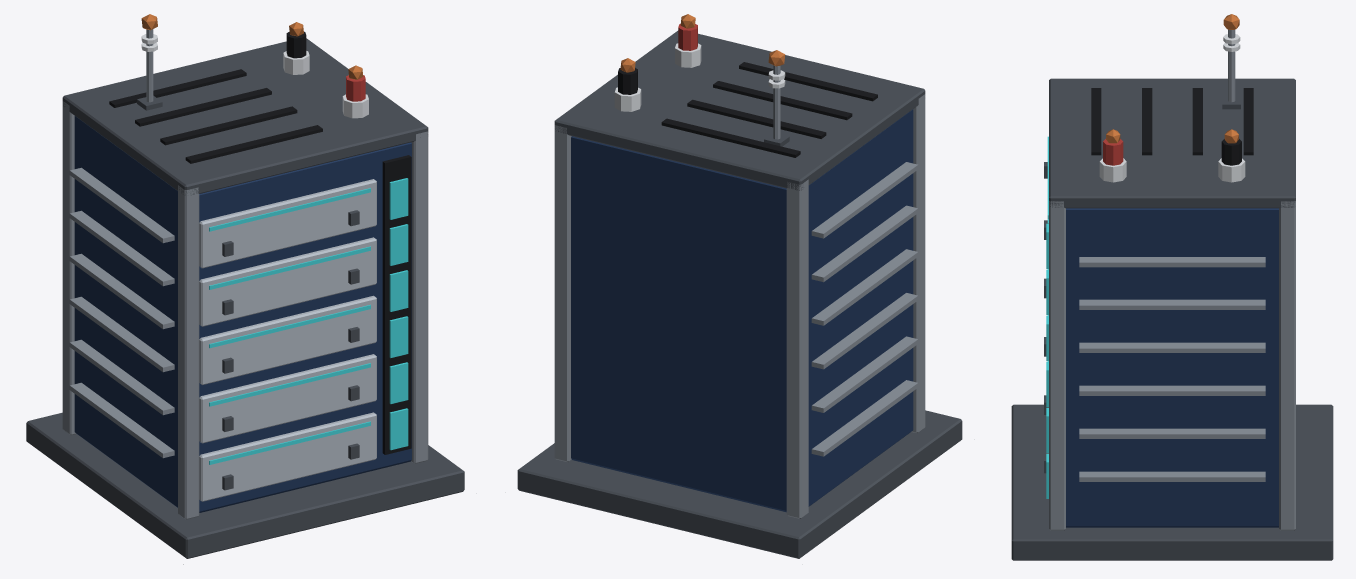
File: accumulateur_t3.glb
The picture shows the model from 3 angles, left to right: view 1: azimuth 30°, elevation 25°; view 2: azimuth 150°, elevation 25°; view 3: azimuth 270°, elevation 25°; orthographic projection.
Visible parts, largest first — view 1: pieces_acier_sombre.016, pieces_panneau.004, pieces_gris_clair.006, pieces_acier.018, pieces_noir.014, pieces_cyan.004, pieces_blanc.018, voyant_charge_0.002, voyant_charge_1.002, voyant_charge_2.002, voyant_charge_4.002, voyant_charge_5.002 (+2 smaller); view 2: pieces_panneau.004, pieces_acier_sombre.016, pieces_acier.018, pieces_noir.014, pieces_blanc.018, pieces_cuivre.018; view 3: pieces_panneau.004, pieces_acier_sombre.016, pieces_acier.018, pieces_noir.014, pieces_blanc.018, pieces_cuivre.018, pieces_rouge.010.
Part boxes in pixels (x1,y1,x2,y2): pieces_acier_sombre.016: (26,38,464,558); pieces_panneau.004: (74,116,411,512); pieces_gris_clair.006: (199,179,376,501); pieces_acier.018: (62,29,428,519); pieces_noir.014: (109,31,411,454); pieces_cyan.004: (209,188,370,464); pieces_blanc.018: (141,34,368,118); voyant_charge_0.002: (389,408,408,450); voyant_charge_1.002: (389,362,408,403); voyant_charge_2.002: (389,316,408,357); voyant_charge_4.002: (389,224,408,265); voyant_charge_5.002: (389,178,408,219); pieces_panneau.004: (571,109,913,512); pieces_acier_sombre.016: (517,30,962,558); pieces_acier.018: (554,65,925,518); pieces_noir.014: (618,62,877,157); pieces_blanc.018: (614,43,785,111); pieces_cuivre.018: (620,14,785,72); pieces_panneau.004: (1066,208,1278,527); pieces_acier_sombre.016: (1011,78,1333,560); pieces_acier.018: (1049,29,1295,530); pieces_noir.014: (1091,88,1253,165); pieces_blanc.018: (1099,34,1245,182); pieces_cuivre.018: (1106,14,1239,143); pieces_rouge.010: (1103,139,1123,165).
Bounding box in the file's own units: 1 × 1.46 × 1.
